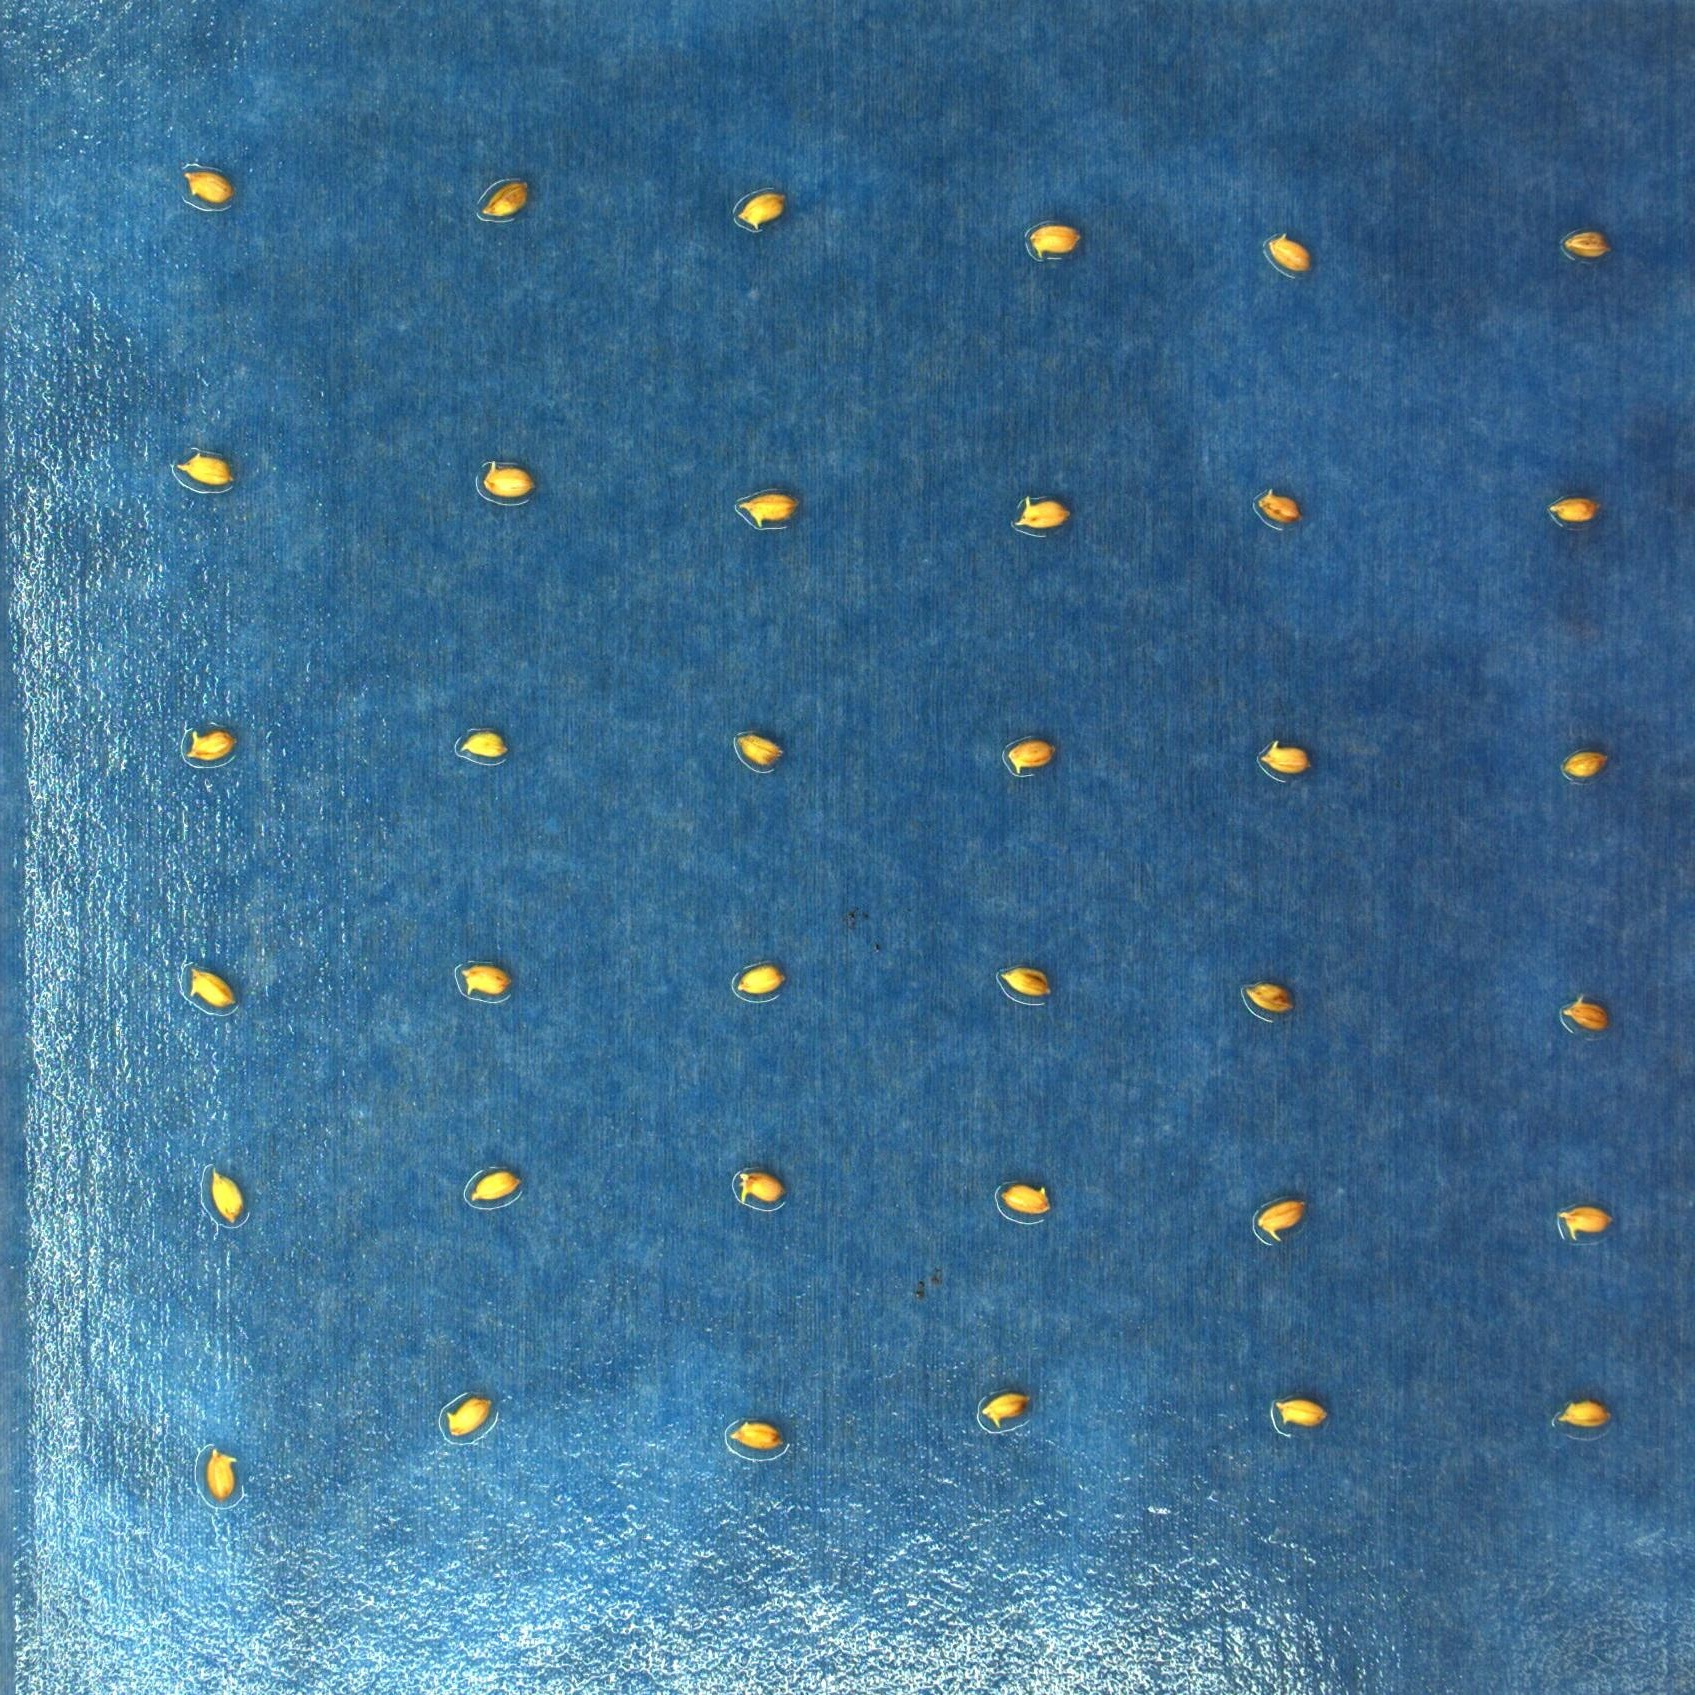not sprout: (979, 1388, 1038, 1434), (481, 456, 539, 501), (736, 489, 799, 529), (1256, 1198, 1307, 1245), (445, 1392, 492, 1444), (179, 449, 233, 492), (1001, 736, 1059, 776), (206, 1167, 247, 1225), (461, 961, 517, 1001), (1265, 233, 1316, 276), (1555, 1205, 1617, 1240), (1000, 1180, 1052, 1220), (733, 733, 787, 771), (1562, 993, 1616, 1032), (1015, 495, 1071, 532), (186, 969, 236, 1010), (736, 192, 789, 231), (185, 725, 237, 764), (739, 1169, 792, 1208), (1001, 962, 1055, 1000), (1243, 979, 1298, 1017), (469, 1167, 523, 1205), (203, 1450, 241, 1504), (477, 183, 529, 220), (1024, 224, 1077, 261), (1555, 1399, 1613, 1433), (1256, 487, 1304, 528), (1260, 740, 1315, 776), (723, 1423, 792, 1451), (1548, 494, 1600, 528), (736, 964, 785, 1000), (1565, 748, 1611, 784), (183, 169, 231, 203), (1565, 230, 1616, 261), (461, 728, 511, 759), (1276, 1400, 1327, 1430)
